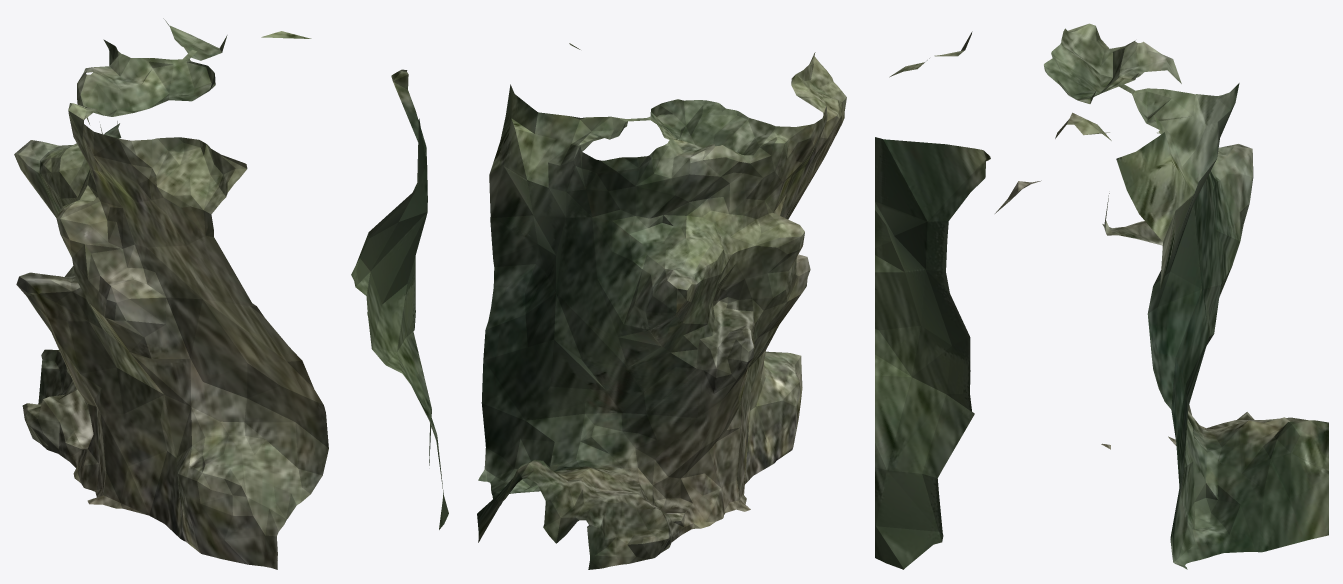
3 renders of one model, left to right at view 1: azimuth 30°, elevation 25°; view 2: azimuth 150°, elevation 25°; view 3: azimuth 270°, elevation 25°, orthographic. The views are drawn at different scales.
Bounding box in the file's own units: 4.54 × 5.9 × 5.9.
Materials: 5 (5 with a texture image).
